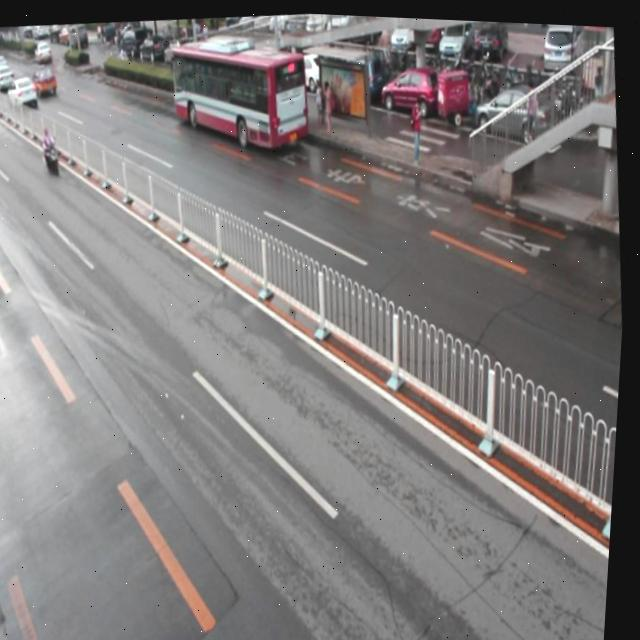van: (166, 26, 313, 158)
